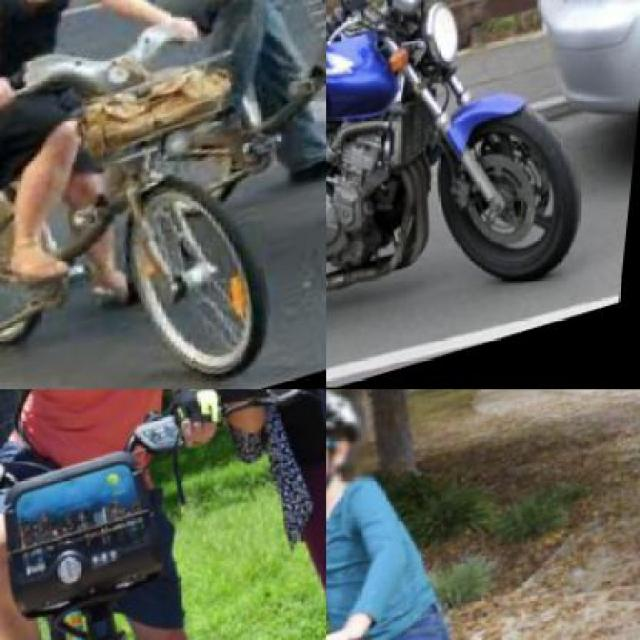With Helmet: (326, 389, 389, 520)
